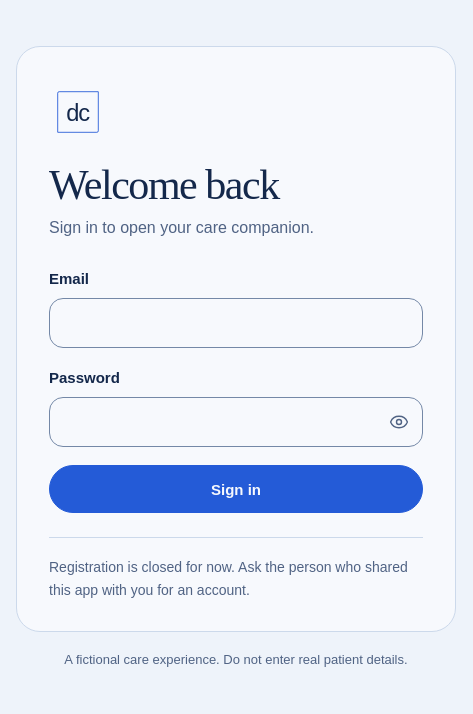
checks the form before sending anything and focuses the first problem
This screenshot has width=473, height=714.
Step 1. Click the submit button → (236, 489), box [49,465,423,513]
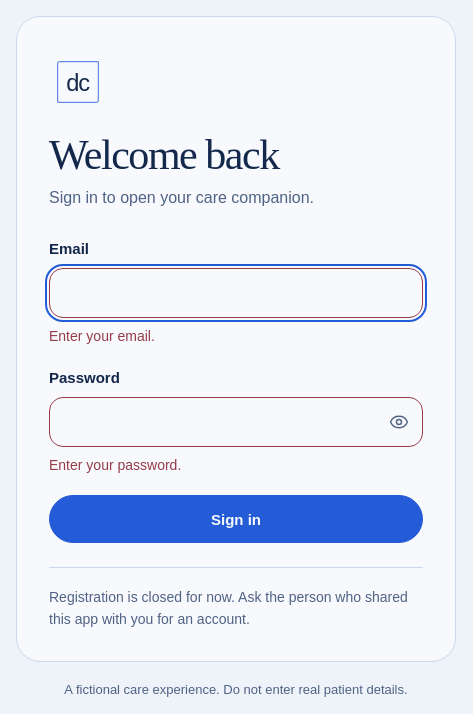
Expected: the message with id "auth-email-error" reads "Enter your email.", [49,328,155,344]
Expected: the message with id "auth-password-error" reads "Enter your password.", [49,457,181,473]
